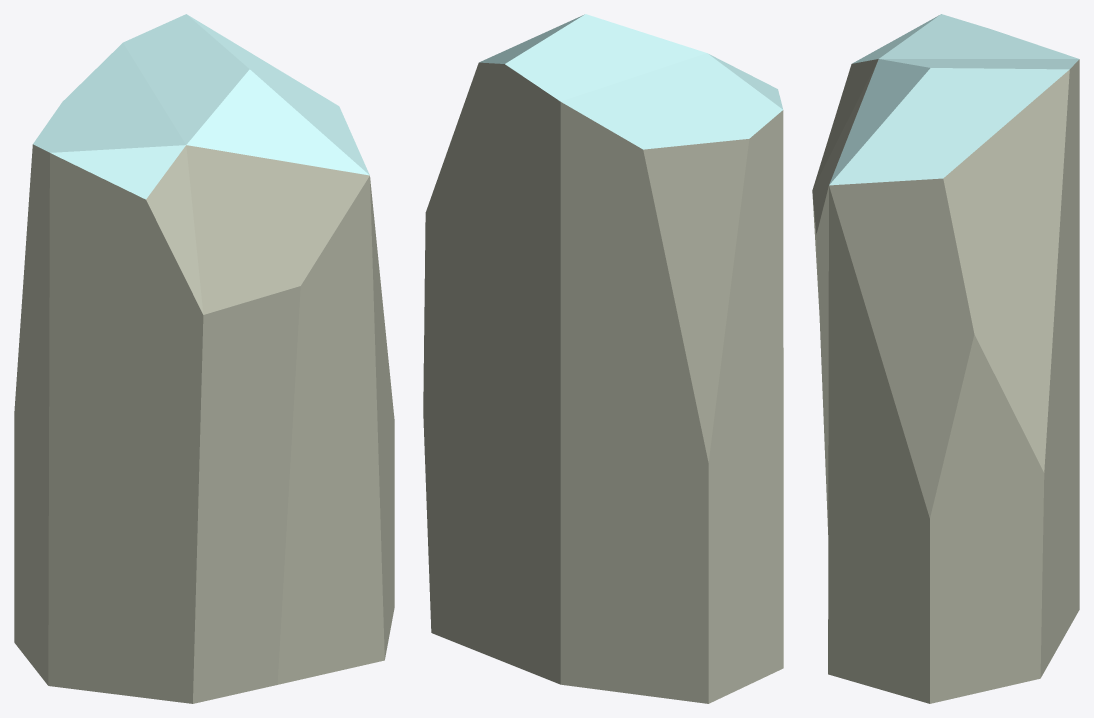
Rendered from rock1.fbx.
3 renders of one model, left to right at view 1: azimuth 30°, elevation 25°; view 2: azimuth 150°, elevation 25°; view 3: azimuth 270°, elevation 25°, orthographic. The views are drawn at different scales.
Visible parts, largest first — view 1: rock1; view 2: rock1; view 3: rock1.
Boxes of the visible parts, x1,y1,x2,y2 form: rock1: (14,14,394,703); rock1: (423,14,783,703); rock1: (812,14,1079,703).
Size of the model in its own units: 8.19 by 5.65 by 13.24.
